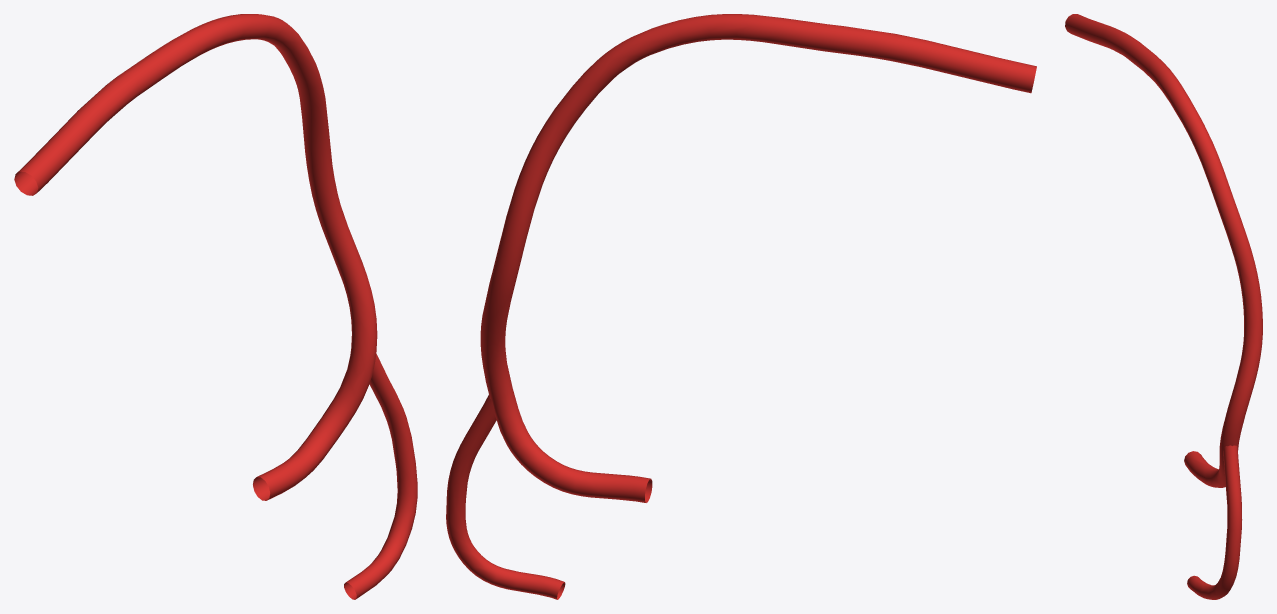
The model's file is circulatorio-descending-branch-of-left-colic-artery.glb.
The picture shows the model from 3 angles, left to right: view 1: azimuth 30°, elevation 25°; view 2: azimuth 150°, elevation 25°; view 3: azimuth 270°, elevation 25°; orthographic projection. The views are drawn at different scales.
Visible parts, largest first — view 1: Descending branch of left colic artery; view 2: Descending branch of left colic artery; view 3: Descending branch of left colic artery.
Boxes of the visible parts, x1=… form: Descending branch of left colic artery: x1=14, y1=14, x2=417, y2=599; Descending branch of left colic artery: x1=446, y1=14, x2=1036, y2=599; Descending branch of left colic artery: x1=1065, y1=14, x2=1262, y2=599.
Size of the model in its own units: 0.0403 by 0.0482 by 0.0188.
